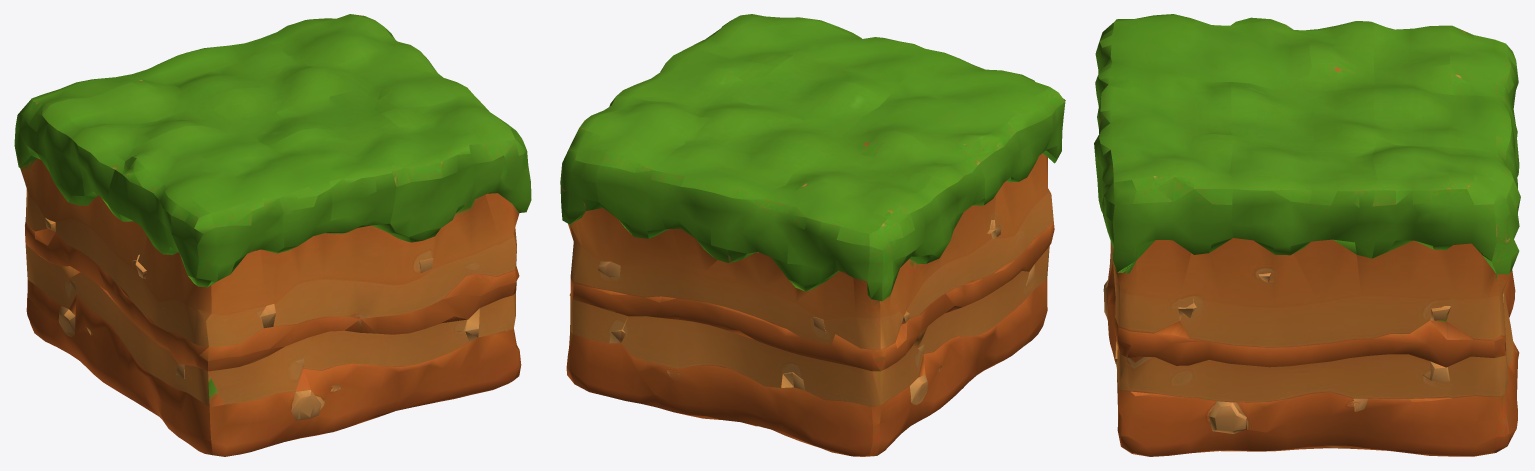
File: campo_terraza1.glb
3 renders of one model, left to right at view 1: azimuth 30°, elevation 25°; view 2: azimuth 150°, elevation 25°; view 3: azimuth 270°, elevation 25°, orthographic. The views are drawn at different scales.
Visible parts, largest first — view 1: tripo_node_7592f1b0-de1f-49be-b302-112f92273fee; view 2: tripo_node_7592f1b0-de1f-49be-b302-112f92273fee; view 3: tripo_node_7592f1b0-de1f-49be-b302-112f92273fee.
Boxes of the visible parts, <box> form: tripo_node_7592f1b0-de1f-49be-b302-112f92273fee: <box>14,14,531,456</box>; tripo_node_7592f1b0-de1f-49be-b302-112f92273fee: <box>560,14,1065,456</box>; tripo_node_7592f1b0-de1f-49be-b302-112f92273fee: <box>1094,14,1520,456</box>.
Bounding box in the file's own units: 0.9922 × 0.7207 × 0.9681.
1 material, 1 textured.
